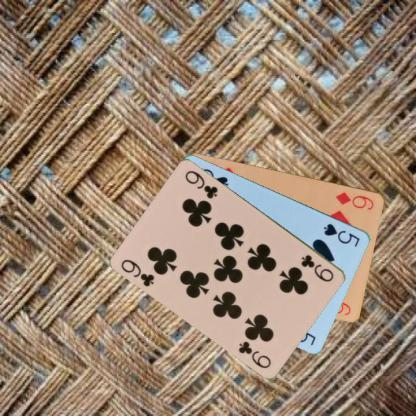5s: (321, 221, 362, 248)
6d: (334, 189, 376, 211)
9c: (118, 256, 156, 288), (298, 252, 336, 283)
